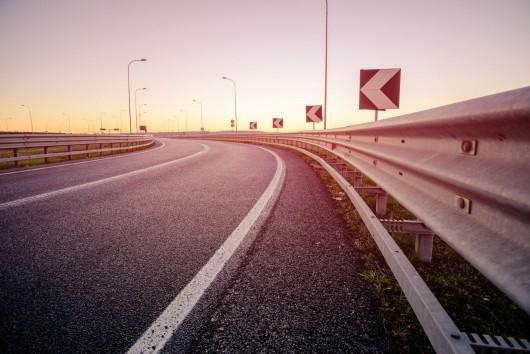indicator: (355, 65, 402, 113), (302, 103, 325, 124), (272, 115, 286, 127), (247, 118, 258, 130)
